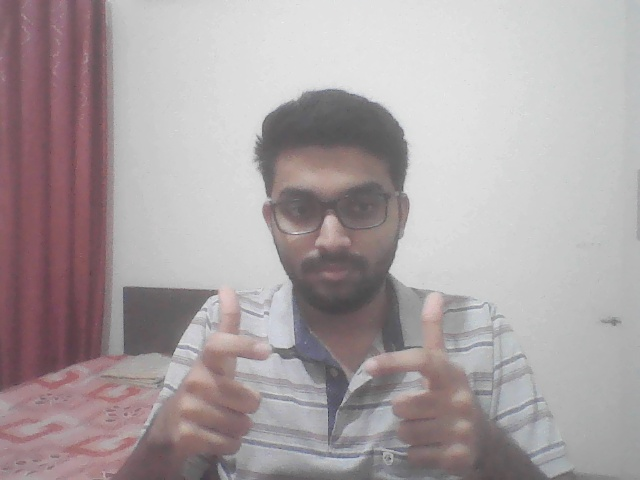big: (131, 272, 539, 473)
